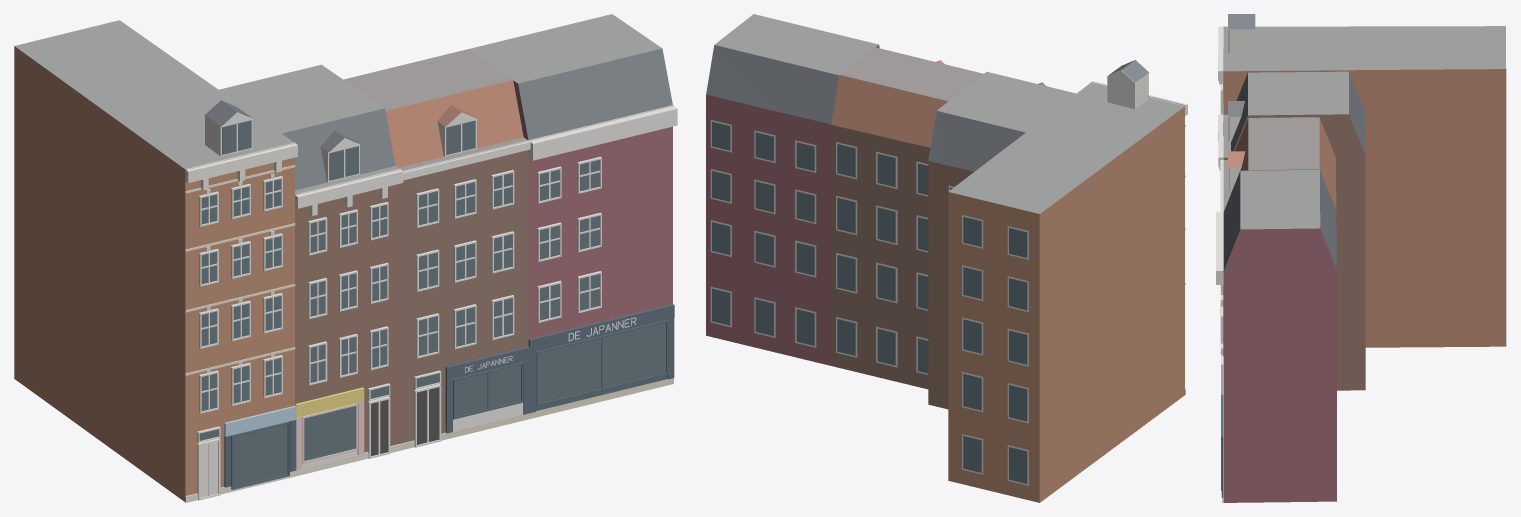
The model's file is chunk-face-bilder-153622-156732.glb.
The picture shows the model from 3 angles, left to right: view 1: azimuth 30°, elevation 25°; view 2: azimuth 150°, elevation 25°; view 3: azimuth 270°, elevation 25°; orthographic projection. The views are drawn at different scales.
Parts seen in each view (by area): view 1: face-bilder-153622-156732; view 2: face-bilder-153622-156732; view 3: face-bilder-153622-156732.
Part boxes in pixels (<box>): face-bilder-153622-156732: <box>14,14,677,502</box>; face-bilder-153622-156732: <box>706,14,1187,502</box>; face-bilder-153622-156732: <box>1216,14,1506,502</box>.
Bounding box in the file's own units: 24.51 × 17.94 × 15.13.
